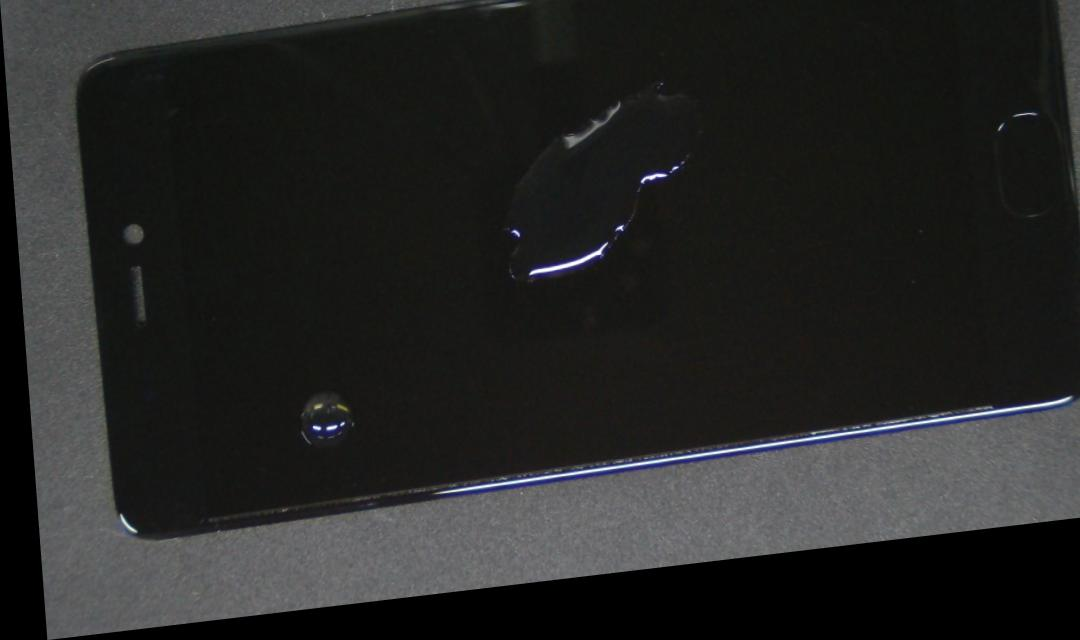oil: (454, 46, 732, 320), (284, 379, 377, 455)
